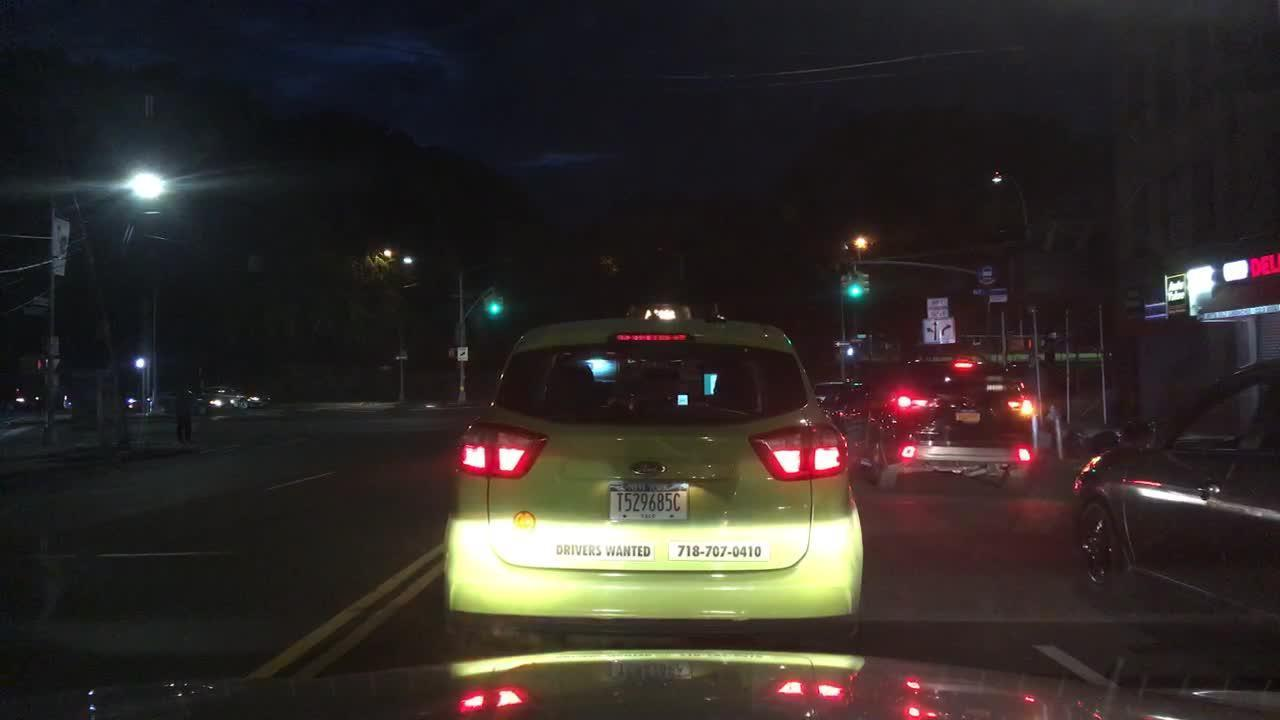ford: (625, 452, 672, 483)
